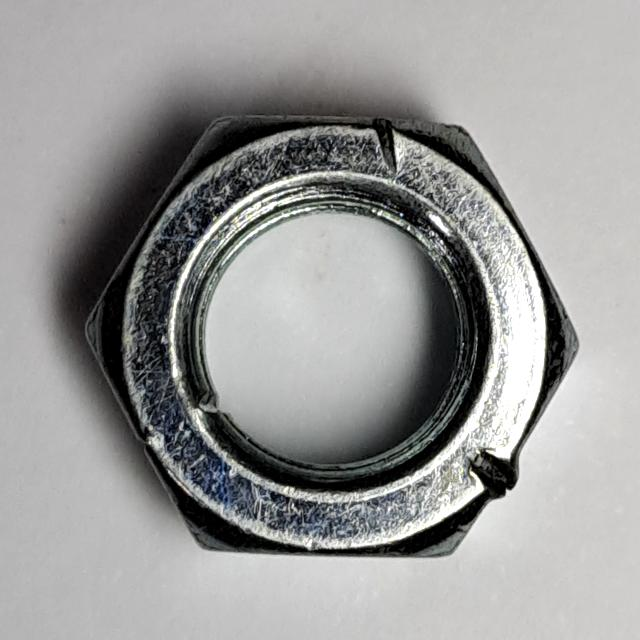Scratches: (70, 97, 594, 579)
